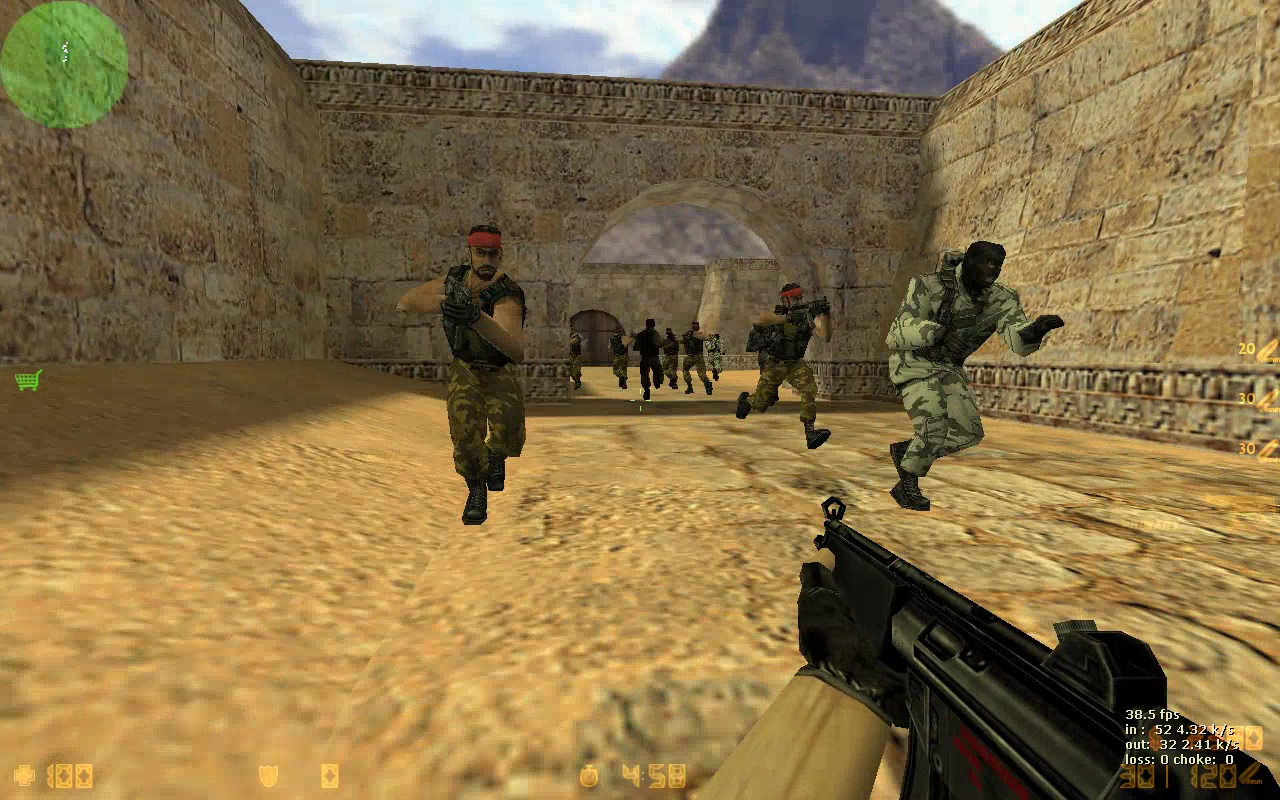terr1: (393, 224, 534, 527), (733, 283, 837, 457), (634, 319, 665, 396), (680, 321, 708, 392), (609, 329, 631, 391), (564, 328, 585, 390)
terr2: (886, 240, 1037, 508), (709, 336, 723, 381)
